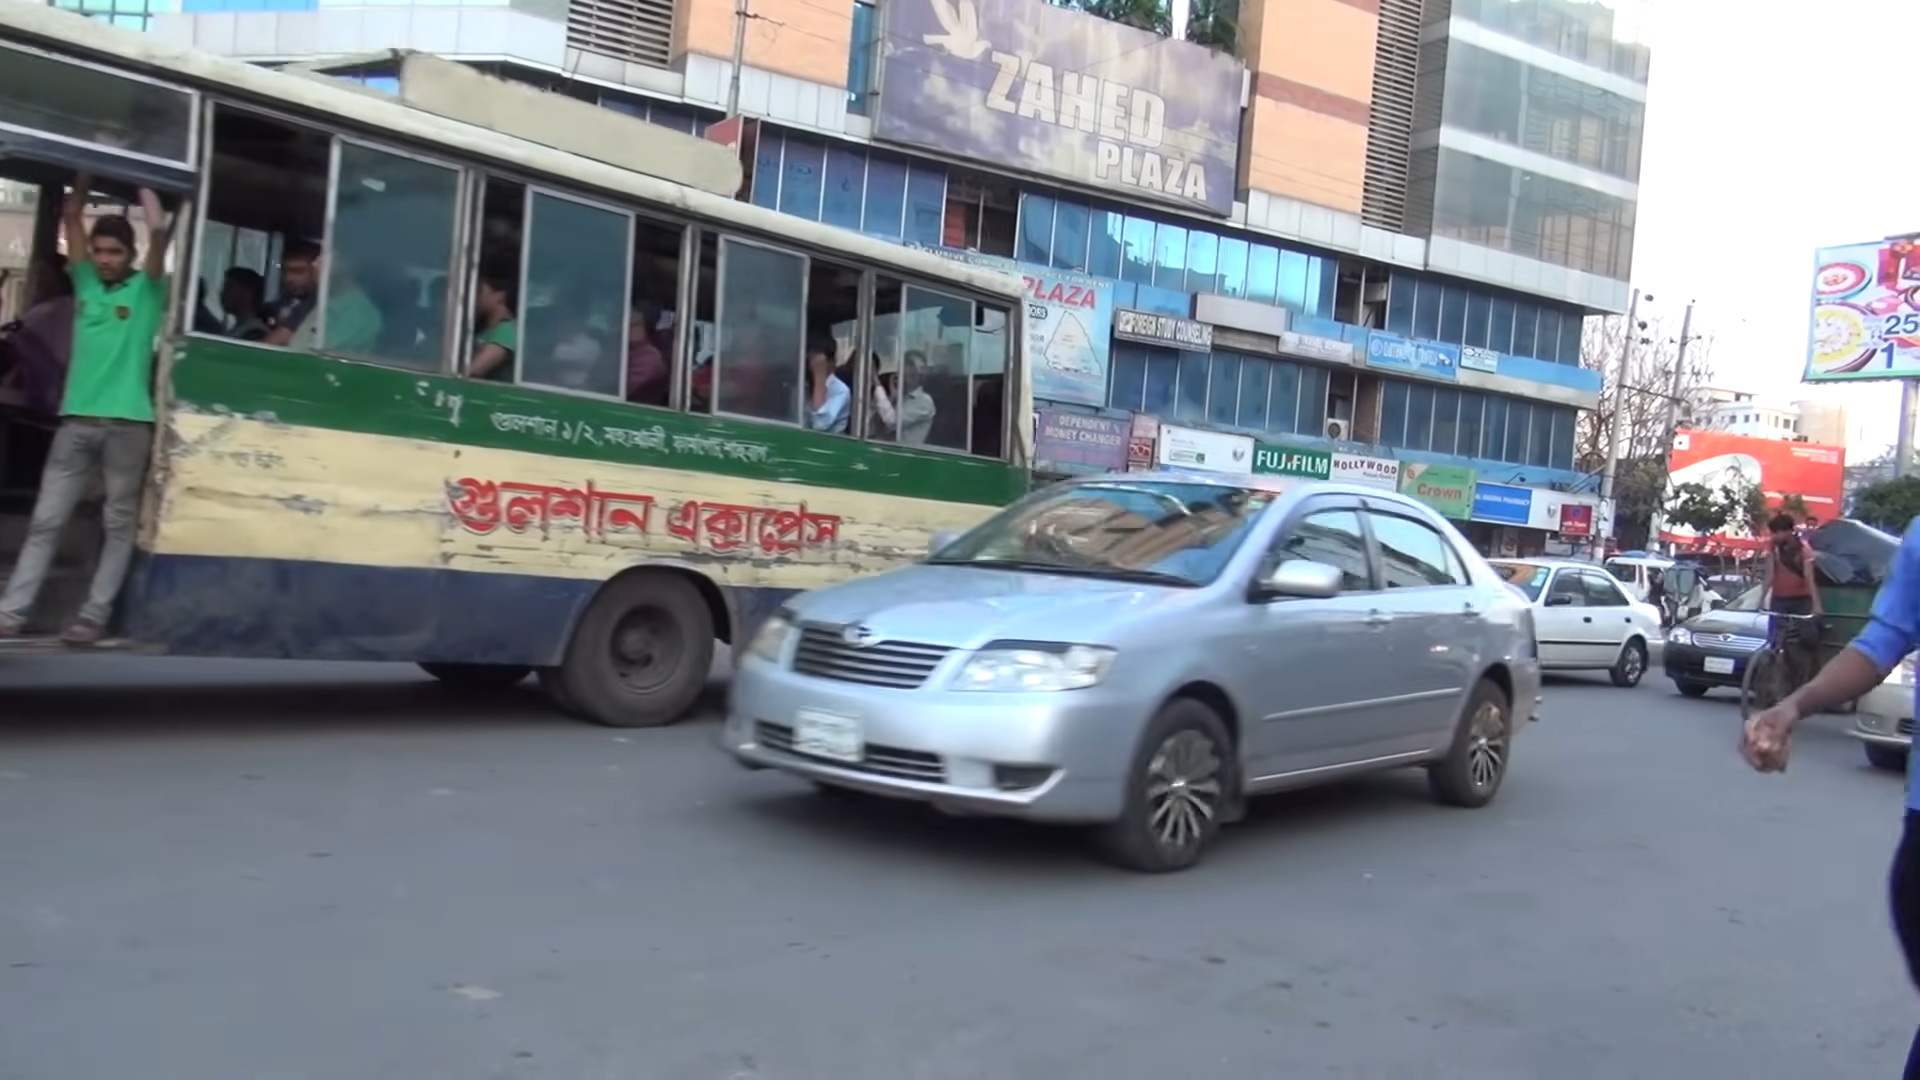Car: (694, 462, 1560, 872)
